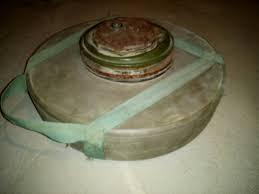TM 62: (25, 16, 225, 161)
